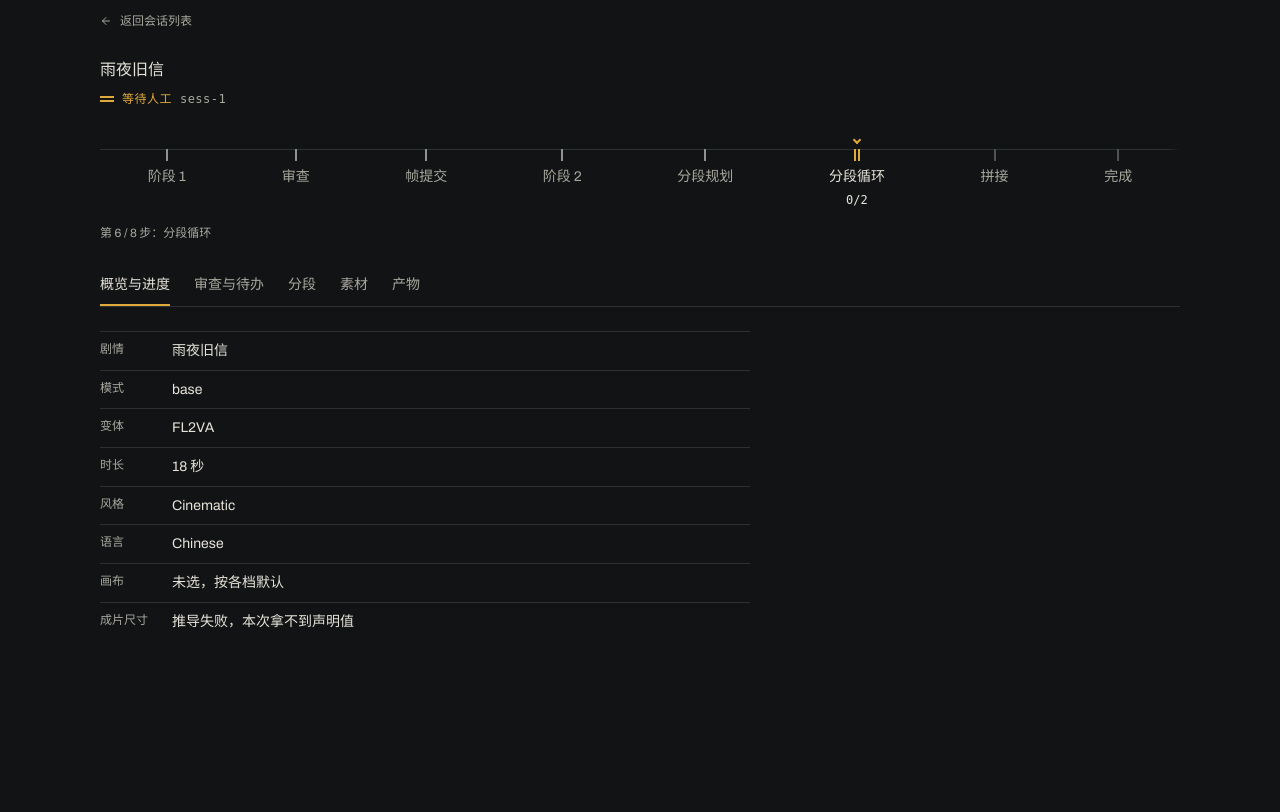
Test case: SessionDetailView 分段分区 › 有段列表时出现「分段」，展示只读段表与「已通过 / 总数」
The width and height of the screenshot is (1280, 812).
Click the tab "分段" at [302, 286], box [288,266,316,306]
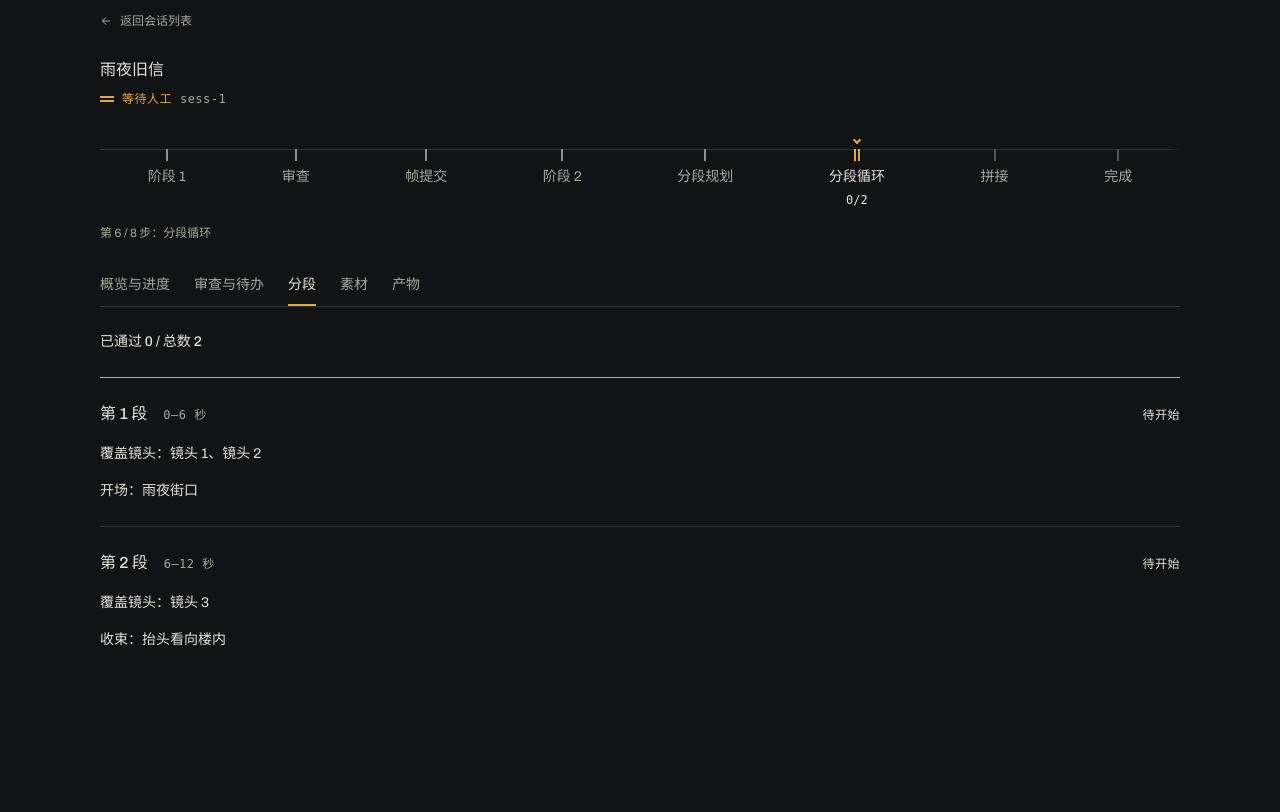
Now the panel with id "workbench-panel-segments" shows "第 1 段", box [100,405,147,422]
Now the panel with id "workbench-panel-segments" shows "0–6 秒", box [163,408,207,422]
Now the panel with id "workbench-panel-segments" shows "镜头 1、镜头 2", box [100,446,261,460]
